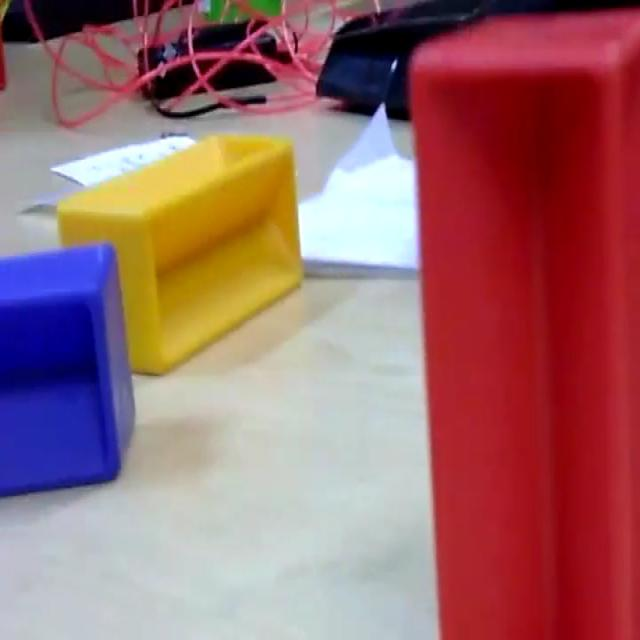blue_block: (0, 240, 136, 497)
red_block: (406, 8, 638, 636)
yellow_block: (56, 132, 303, 375)
